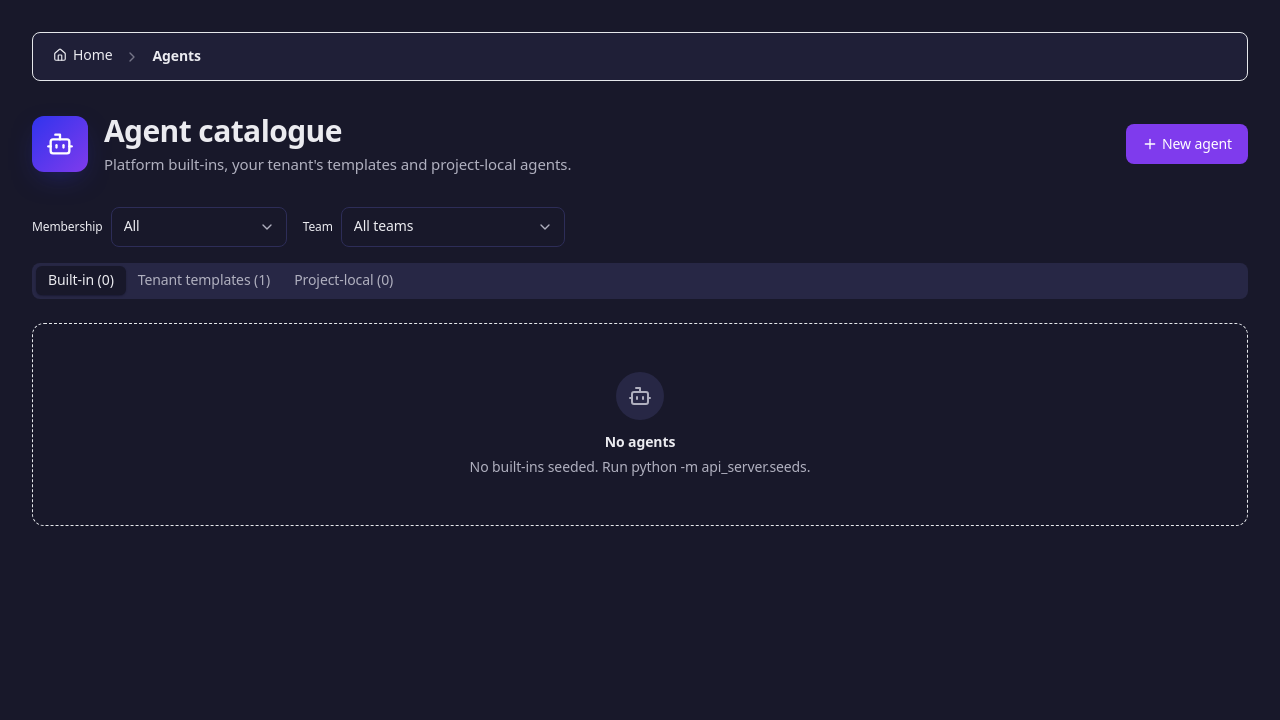
catálogo de agentes › en inglés traduce cabecera, filtros, pestañas y vacíos
Check: the heading "Agent catalogue" is shown, box x1=104 y1=110 x2=342 y2=151
Check: the element with test id "agents-tabs" is shown, box x1=32 y1=263 x2=1248 y2=526
Click the tab with test id "tab-local" at coordinates (344, 281), box x1=282 y1=266 x2=405 y2=295
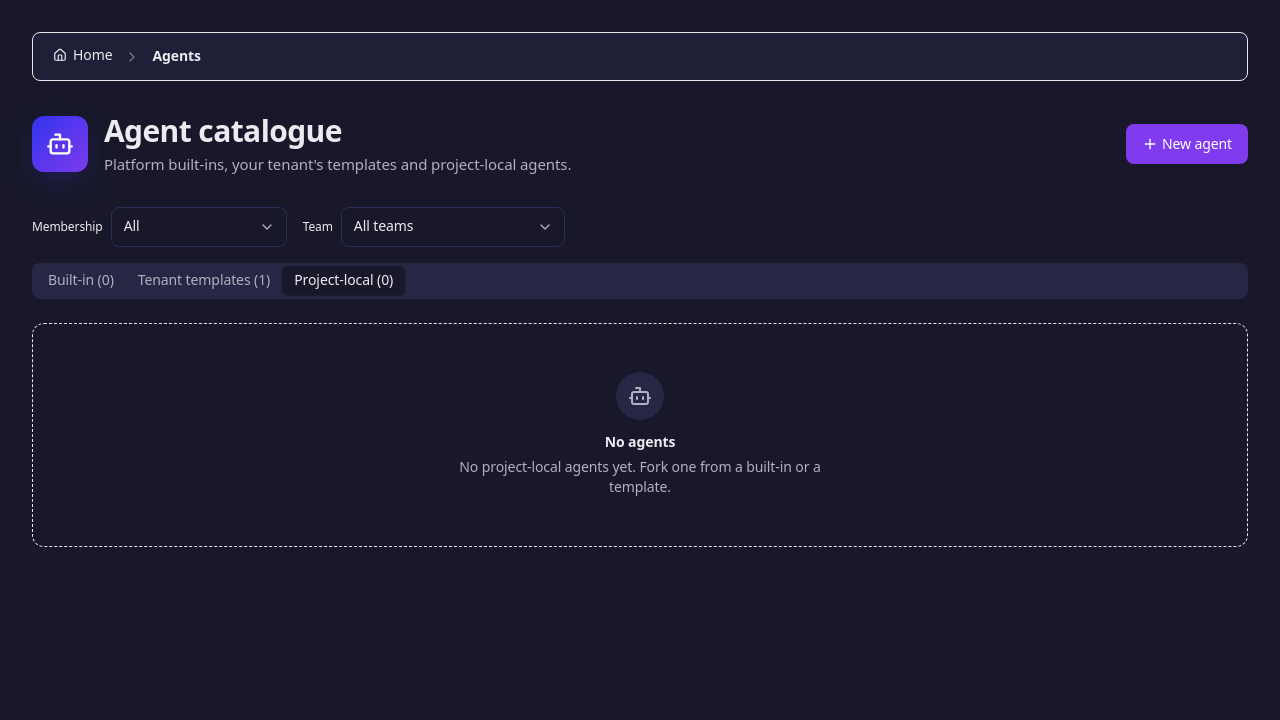
Check: the text "No project-local agents" is shown, box x1=459 y1=457 x2=821 y2=496
